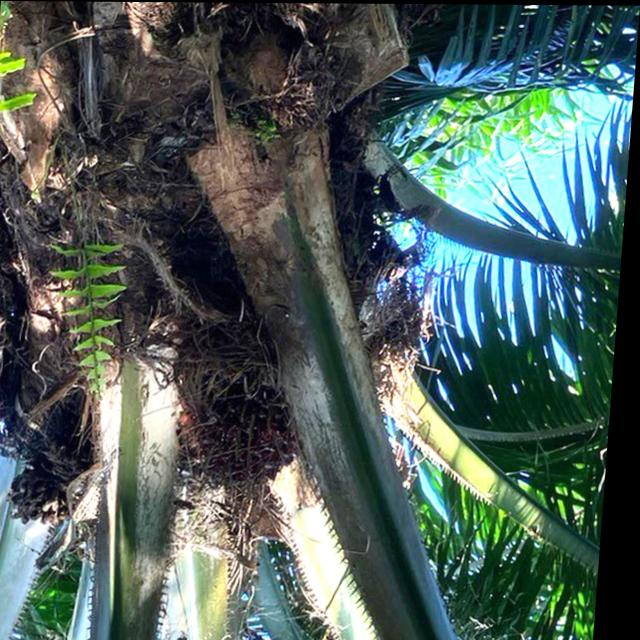ripe: (166, 346, 323, 501)
